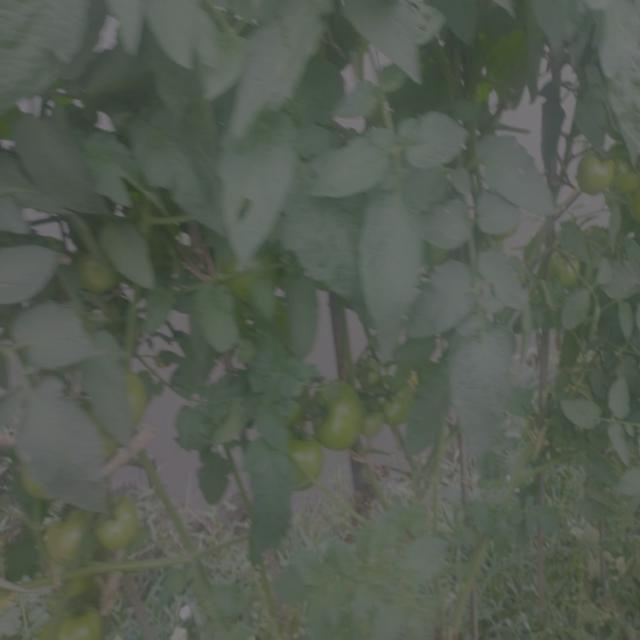tomato: (306, 375, 363, 452), (368, 363, 422, 427), (76, 241, 124, 307), (95, 496, 143, 556), (285, 430, 331, 490), (20, 449, 68, 504), (581, 138, 620, 205), (47, 508, 90, 568), (113, 366, 158, 420), (230, 250, 286, 291), (551, 243, 589, 297), (51, 609, 114, 640), (94, 430, 126, 464), (622, 155, 640, 209), (64, 572, 94, 599)
